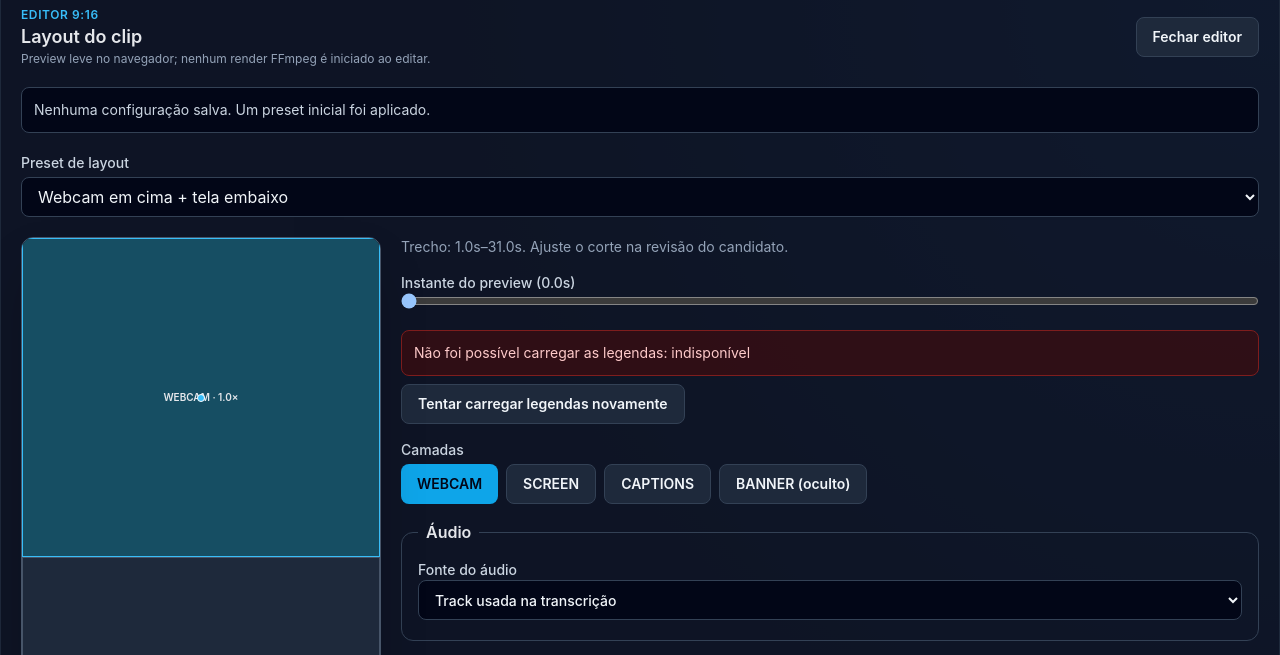
Test: EditorPanel › shows cue loading errors separately and retries them
The width and height of the screenshot is (1280, 655).
Expected: the message "Não foi possível carregar as legendas: indisponível" is shown, [401,330,1259,376]
Expected: the text "Sem legenda neste instante" is not shown
Click the button "Tentar carregar legendas novamente": (543, 404) [401,384,685,424]
(page scrolled)
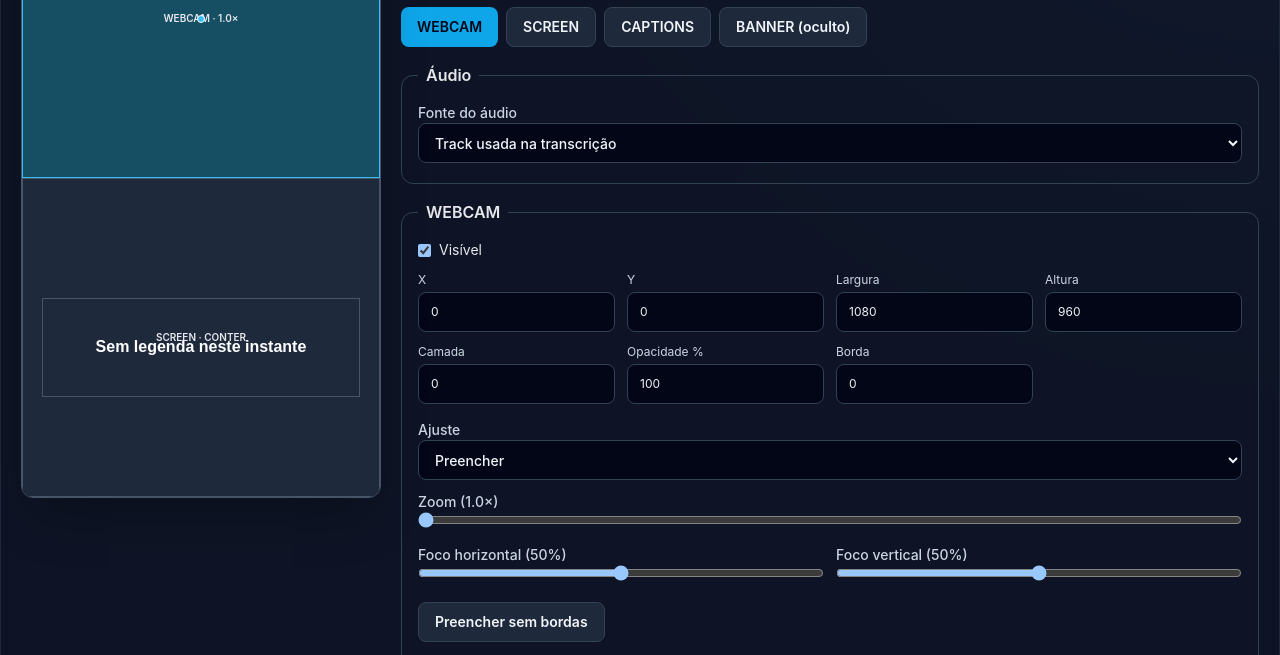
Expected: the text "Sem legenda neste instante" is shown, [96,338,306,356]
